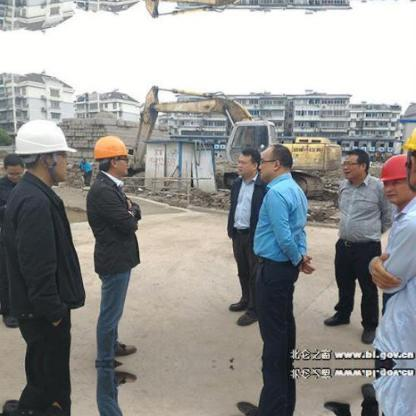helmet: (15, 116, 73, 166), (95, 133, 149, 168), (374, 155, 416, 187)
